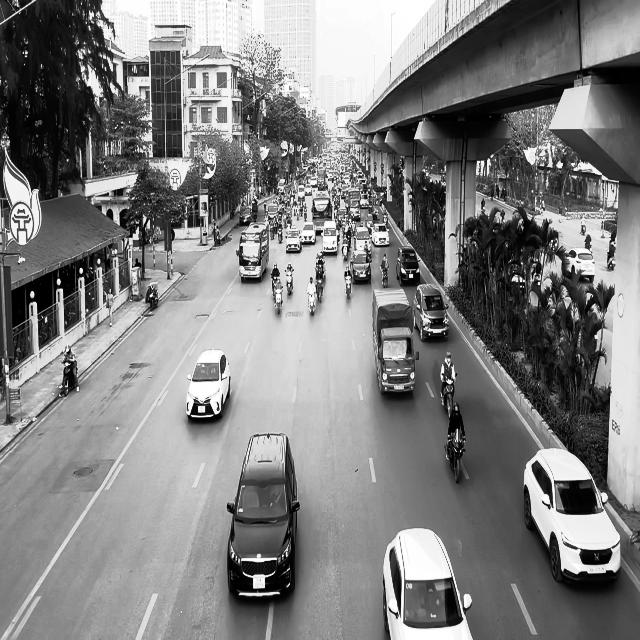car: (523, 447, 621, 585), (226, 432, 300, 600), (382, 527, 474, 639), (186, 348, 230, 421), (412, 284, 449, 342), (562, 247, 595, 283), (396, 245, 420, 285), (502, 260, 526, 294), (349, 249, 372, 284)
motorbike: (444, 430, 466, 483), (59, 359, 79, 397), (442, 378, 455, 418), (146, 283, 158, 310), (344, 268, 352, 298), (606, 244, 615, 270), (316, 276, 324, 303), (285, 269, 293, 295), (308, 291, 316, 315), (381, 265, 388, 288)
truck: (372, 287, 419, 395), (237, 222, 269, 282)
